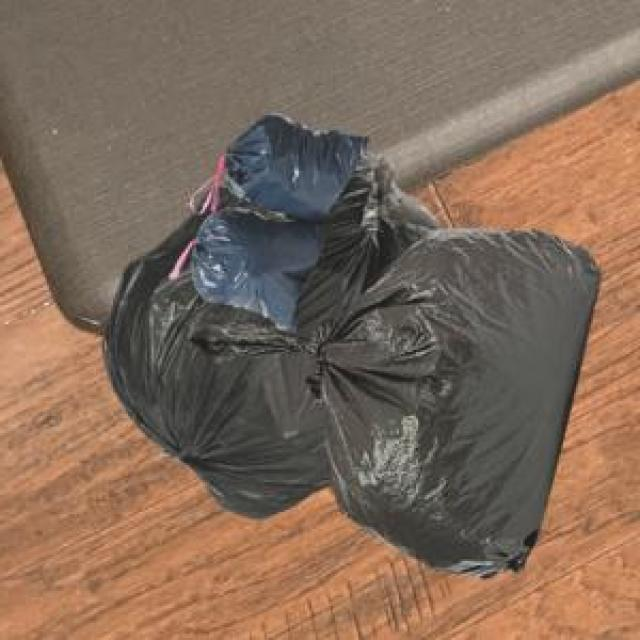Trashbag: (310, 227, 611, 576), (193, 212, 317, 344), (232, 112, 366, 224)
